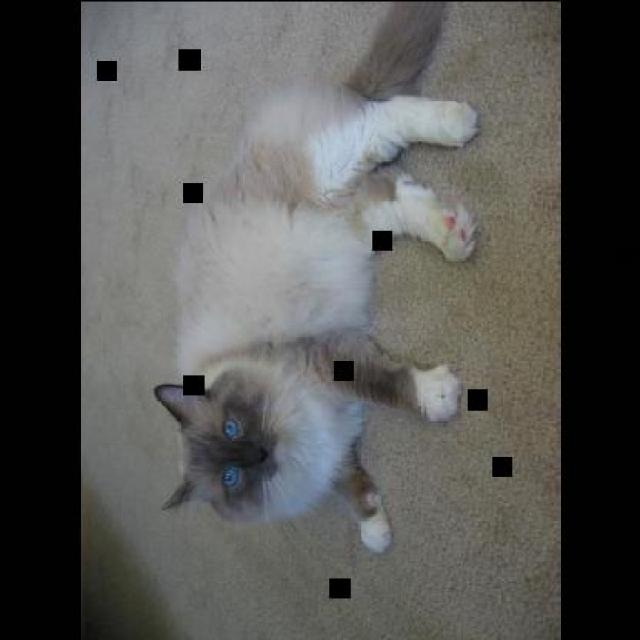unauthorized: (152, 0, 479, 555)
